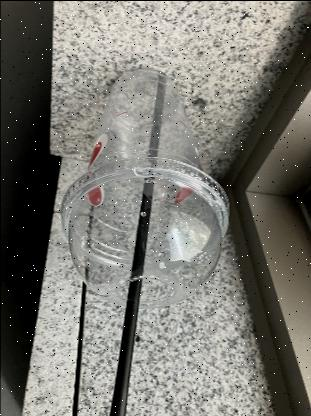Others: (57, 66, 229, 312), (53, 155, 235, 309), (106, 68, 167, 416)
